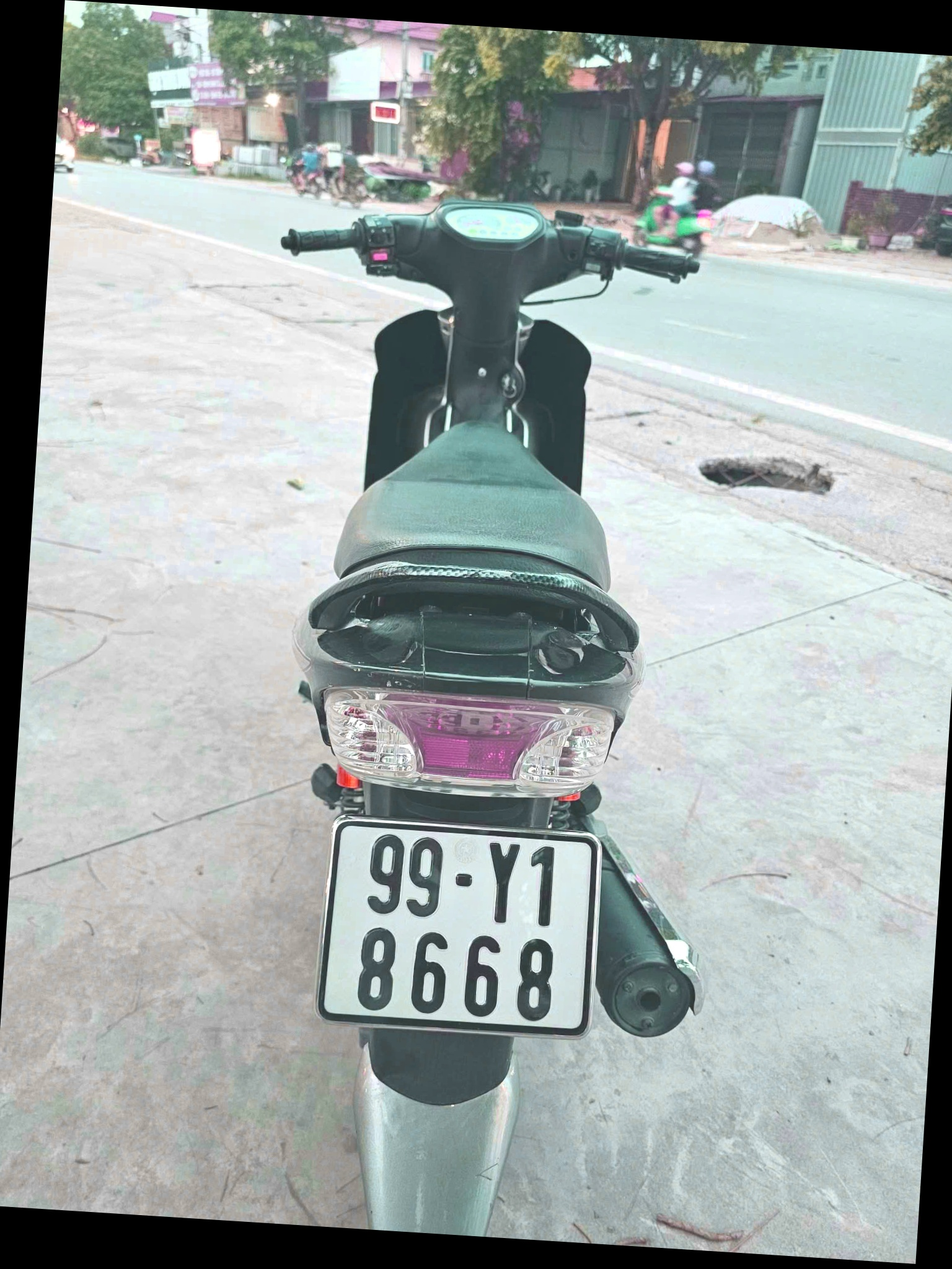Bien-so: (310, 826, 615, 1053)
